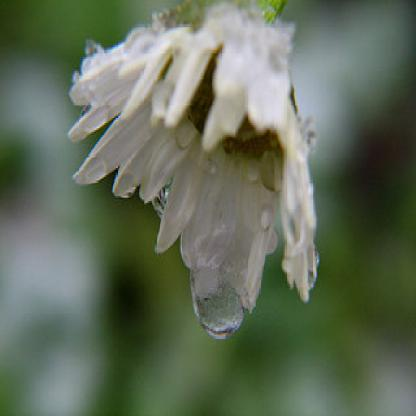ASTER: (44, 13, 340, 355)
